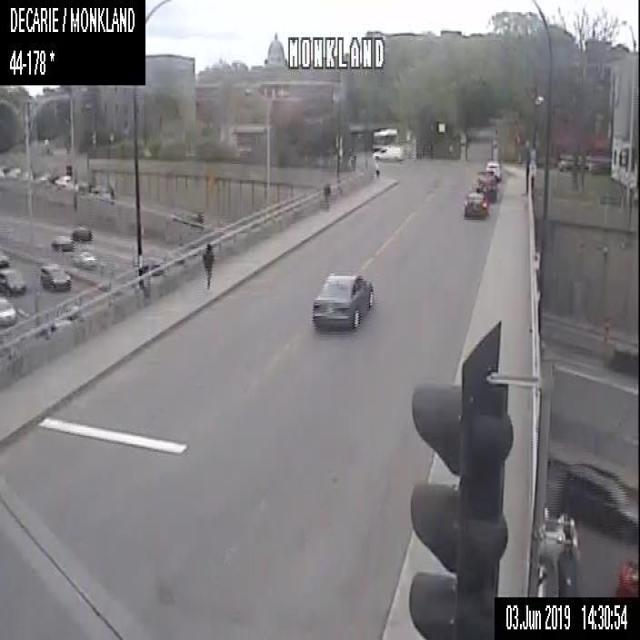bus: (370, 127, 398, 149)
pedestrian: (200, 241, 215, 291), (321, 180, 331, 211), (372, 160, 378, 181)
vehicle: (560, 463, 636, 540), (310, 272, 374, 331), (36, 261, 72, 292), (618, 560, 639, 595), (474, 170, 498, 198), (0, 293, 18, 330), (0, 267, 26, 292), (171, 209, 204, 228), (464, 192, 486, 216), (372, 146, 404, 160), (51, 232, 72, 250), (70, 223, 91, 240), (73, 250, 94, 267), (486, 160, 500, 178)
